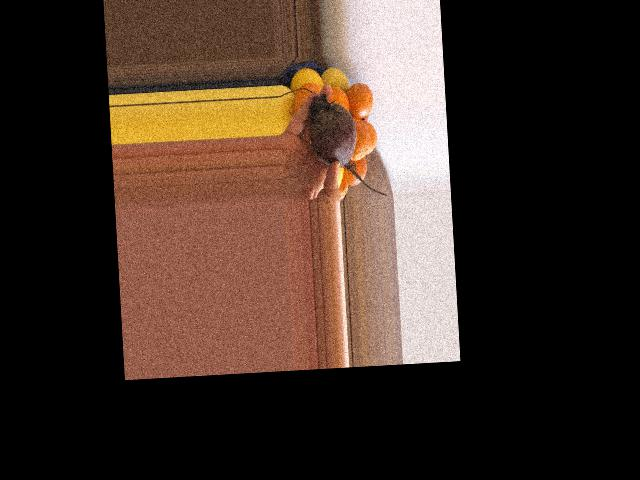beet: (307, 92, 386, 199)
